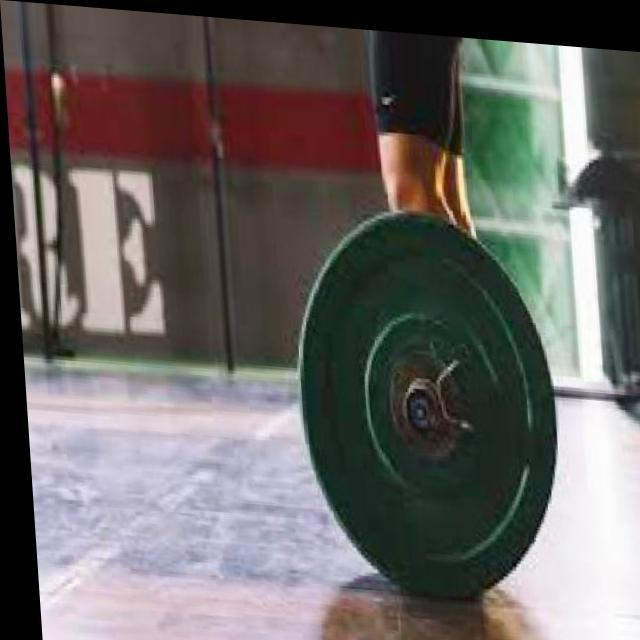barbell: (277, 193, 572, 607)
